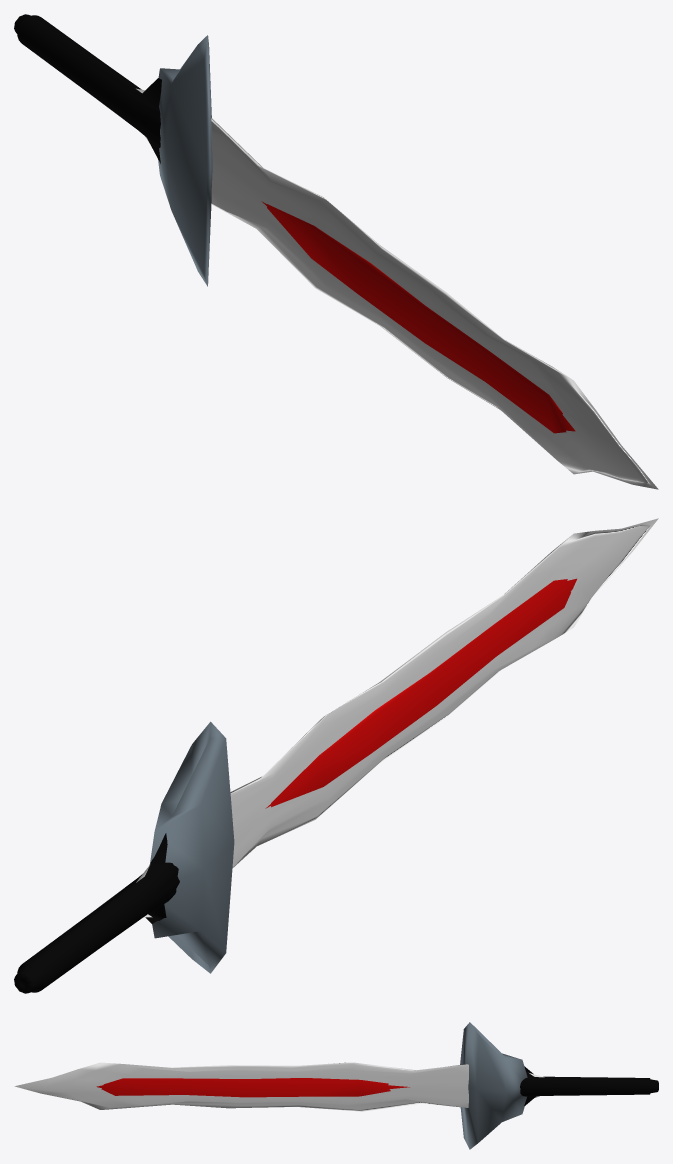
Rendered from sword.fbx.
3 renders of one model, top to bottom at view 1: azimuth 30°, elevation 25°; view 2: azimuth 150°, elevation 25°; view 3: azimuth 270°, elevation 25°, orthographic. The views are drawn at different scales.
Parts seen in each view (by area): view 1: Cube, Cube.001, Cylinder.001, Cylinder; view 2: Cube, Cylinder.001, Cube.001, Cylinder; view 3: Cube, Cylinder.001, Cube.001, Cylinder.
Boxes of the visible parts, x1=… form: Cube: x1=136, y1=88, x2=658, y2=489; Cube.001: x1=261, y1=201, x2=575, y2=433; Cylinder.001: x1=158, y1=35, x2=212, y2=286; Cylinder: x1=14, y1=14, x2=161, y2=163; Cube: x1=136, y1=518, x2=658, y2=917; Cylinder.001: x1=150, y1=721, x2=234, y2=973; Cube.001: x1=265, y1=578, x2=576, y2=808; Cylinder: x1=14, y1=833, x2=179, y2=993; Cube: x1=14, y1=1062, x2=544, y2=1111; Cylinder.001: x1=460, y1=1022, x2=527, y2=1149; Cube.001: x1=96, y1=1078, x2=409, y2=1097; Cylinder: x1=520, y1=1066, x2=658, y2=1106.
Size of the model in its own units: 0.7641 by 4.59 by 20.99.
